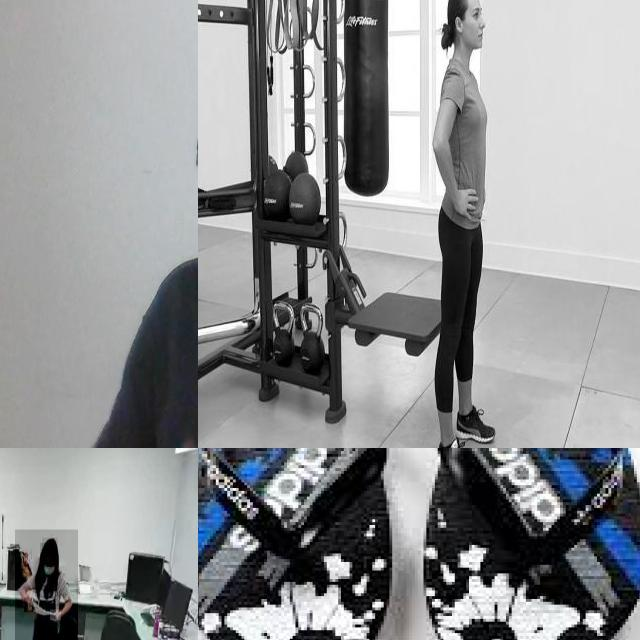No_Ear-Protection: (447, 9, 469, 41)
Sandals: (198, 448, 640, 640)
face_mask: (40, 543, 56, 588)
face_nomask: (471, 22, 494, 48)
hand_noglove: (447, 167, 499, 234), (24, 597, 34, 613), (50, 610, 62, 621)
head_nohelmet: (42, 538, 58, 552)
person: (431, 0, 496, 448), (15, 529, 78, 640)
